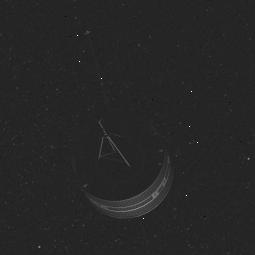double_start: (78, 100, 176, 222)
